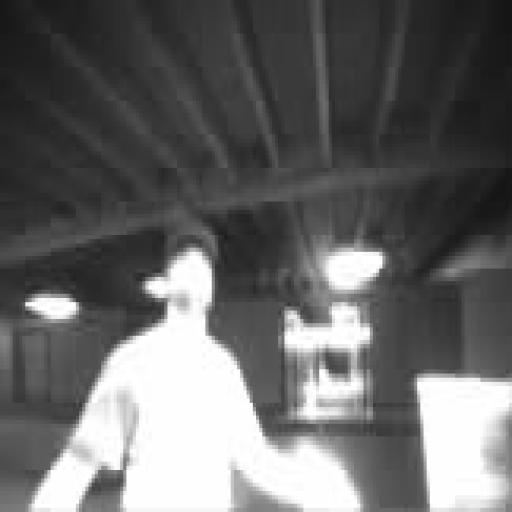human: (32, 219, 360, 511)
